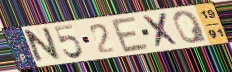2: (89, 22, 117, 55)
5: (52, 23, 86, 61)
E: (109, 15, 152, 54)
N: (24, 26, 63, 66)
Q: (171, 9, 210, 45)
X: (141, 12, 182, 50)
